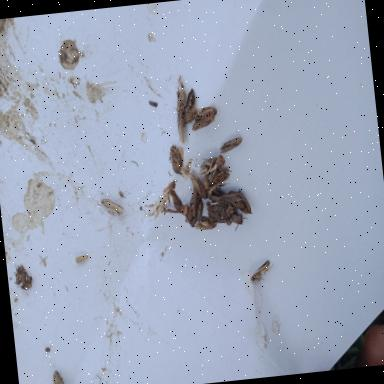pbw: (190, 107, 222, 131), (248, 259, 275, 282), (167, 144, 186, 176), (190, 171, 208, 201), (100, 196, 124, 218), (181, 88, 198, 119), (234, 187, 252, 216), (218, 136, 244, 154), (15, 263, 32, 290), (198, 156, 220, 176), (174, 88, 188, 119), (211, 166, 234, 184), (175, 112, 187, 146), (230, 213, 249, 232), (220, 191, 242, 207), (171, 190, 184, 214), (206, 190, 226, 205), (190, 193, 202, 217), (195, 200, 206, 224), (208, 214, 232, 225), (49, 369, 65, 384), (200, 216, 218, 228), (202, 173, 213, 190), (188, 214, 198, 228), (186, 207, 194, 224), (0, 69, 4, 100), (213, 188, 224, 198), (76, 255, 88, 263)
